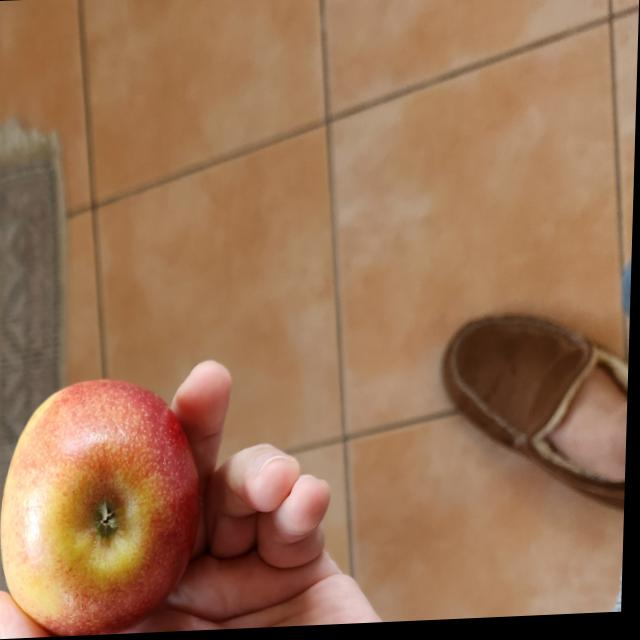apple: (2, 377, 206, 639)
